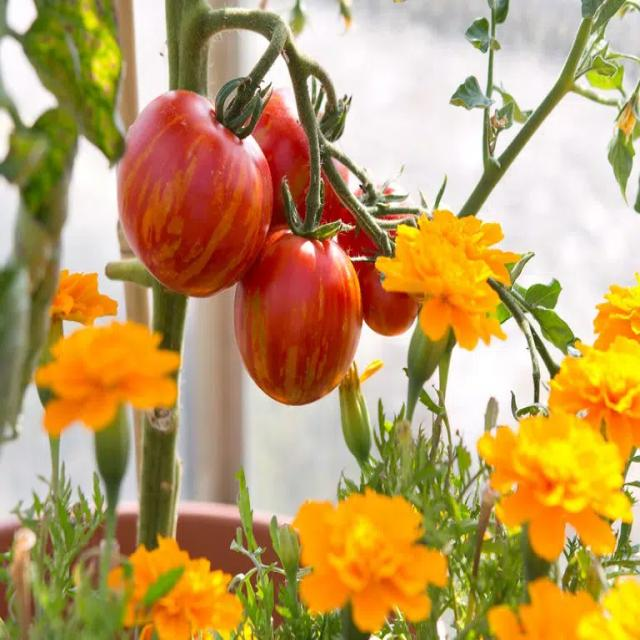level 6: (119, 87, 272, 298), (222, 82, 350, 264), (236, 227, 361, 405), (338, 187, 431, 336)
